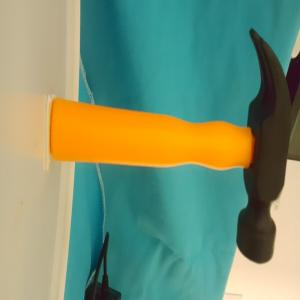martelo: (50, 27, 292, 265)
